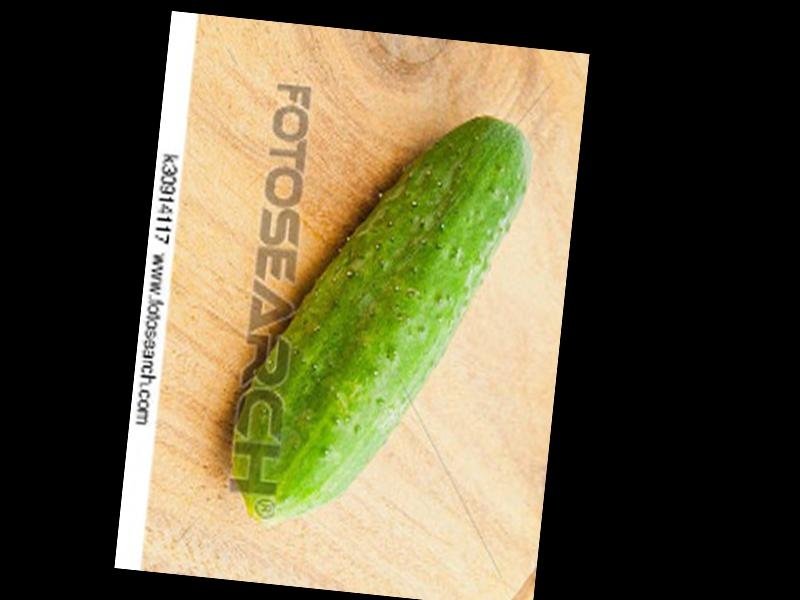Cucumber: (221, 92, 535, 547)
